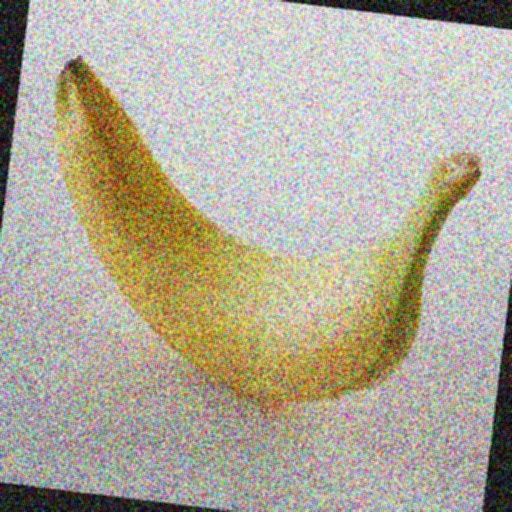fruit: (18, 31, 92, 227)
